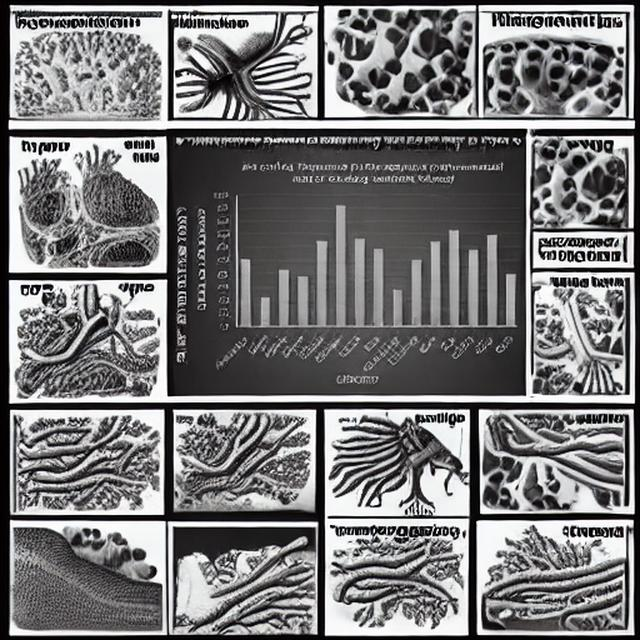Graph: (191, 155, 526, 396)
